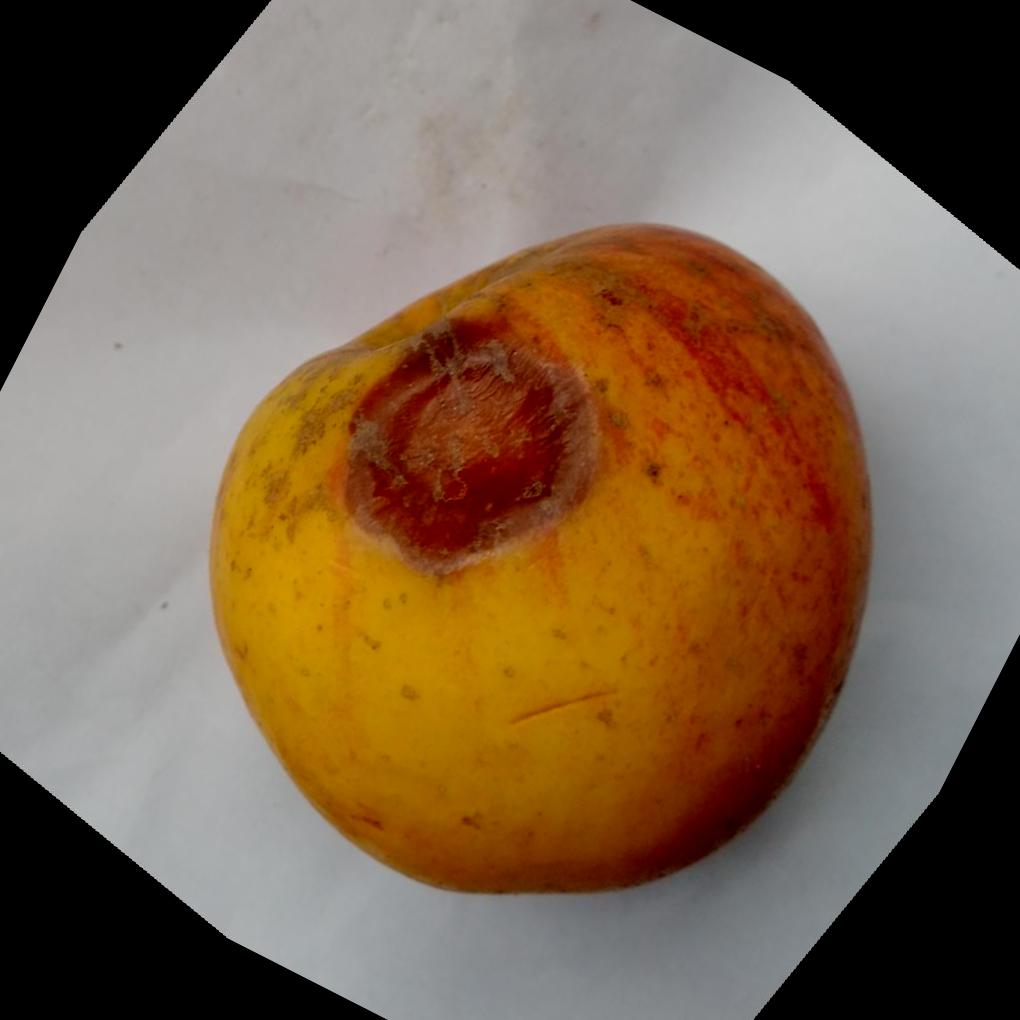FreshOrange: (207, 218, 875, 894)
